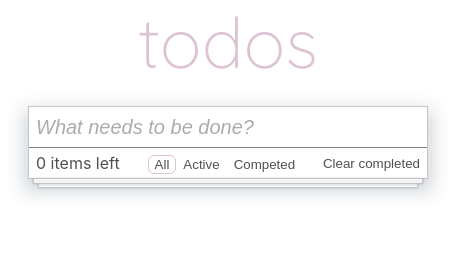
Scenario: <TodoForm /> › Tabs work correctly
In the field with placeholder "What needs to be done?": coordinates (228, 127) [29,107,427,147], type "New value"
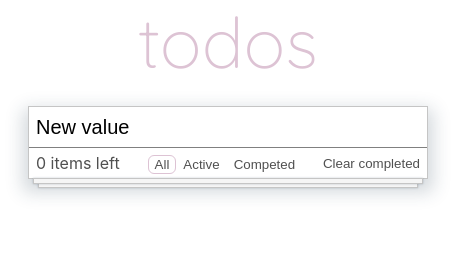
Press Enter in the field with placeholder "What needs to be done?", box [29,107,427,147]
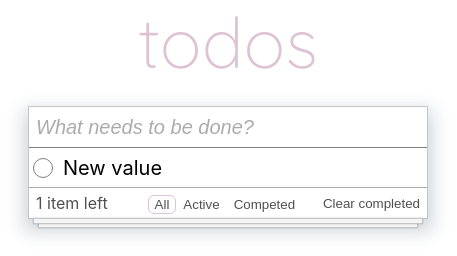
Check: the number of list items is 1, box [29,148,427,188]
Click the button with class "tab" showing "Competed": coordinates (264, 204) [227,194,302,214]
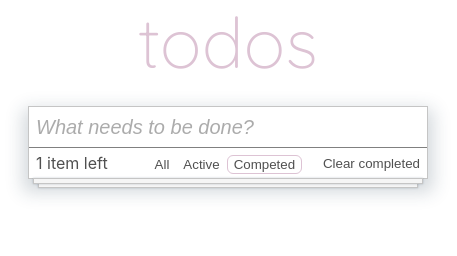
Check: no list items are shown
